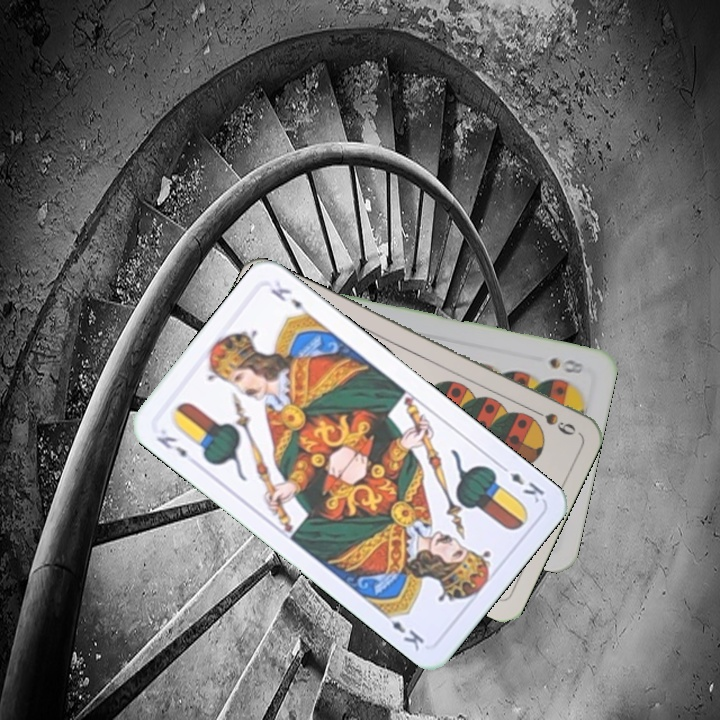EK: (495, 460, 547, 506), (152, 432, 190, 461)
S8: (545, 353, 587, 377)
S9: (524, 403, 578, 438)
